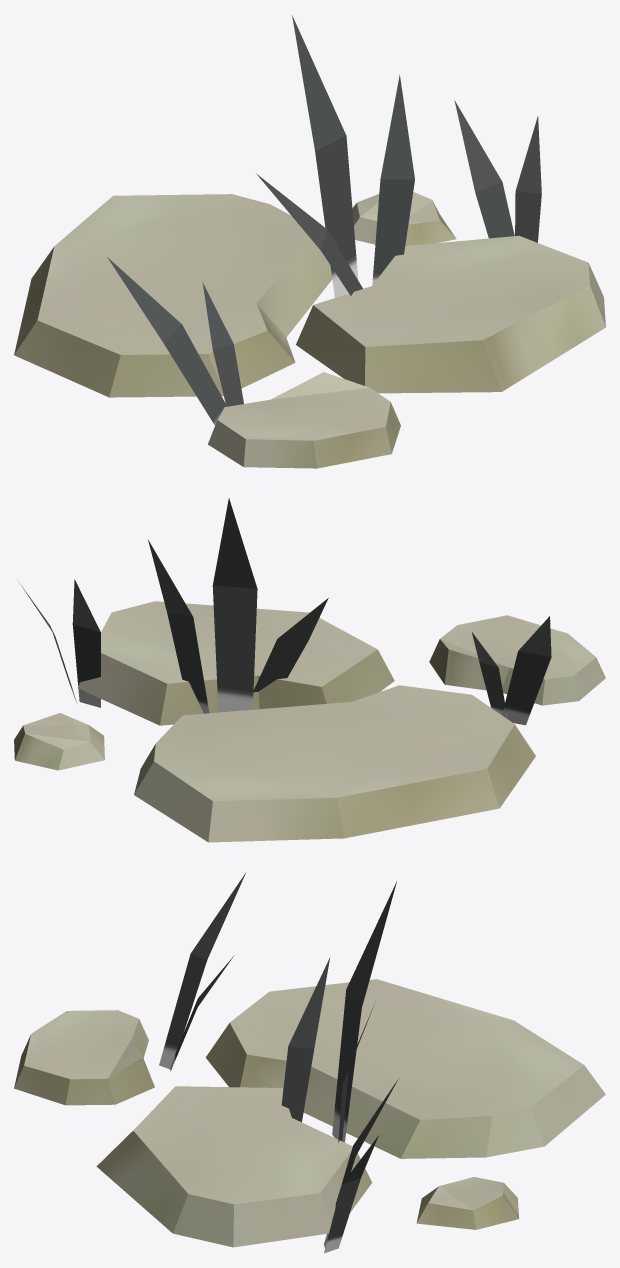
File: Rocks_Decal_3.fbx
3 views of the same model, one above another, from view 1: azimuth 30°, elevation 25°; view 2: azimuth 150°, elevation 25°; view 3: azimuth 270°, elevation 25° (orthographic). The views are drawn at different scales.
Parts seen in each view (by area): view 1: Rocks_Decal_3; view 2: Rocks_Decal_3; view 3: Rocks_Decal_3.
Part boxes in pixels (x1,y1,x2,y2): Rocks_Decal_3: (14, 15, 605, 468); Rocks_Decal_3: (14, 498, 605, 842); Rocks_Decal_3: (14, 873, 605, 1253).
Bounding box in the file's own units: 0.7571 × 0.4117 × 0.7822.
